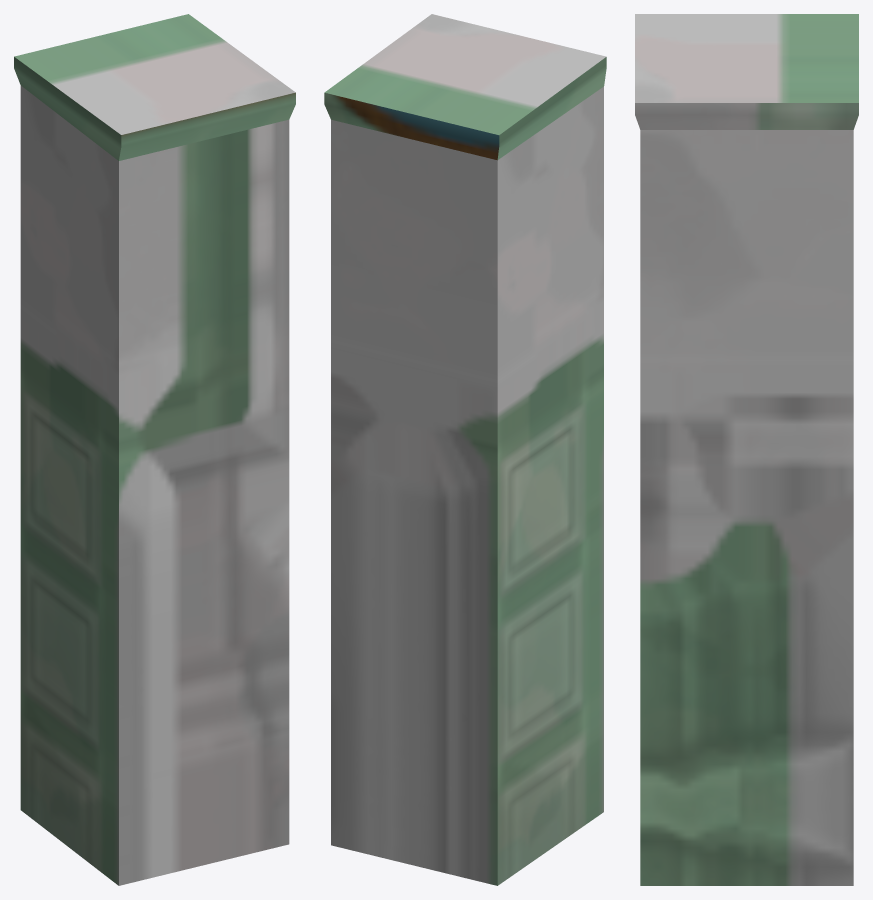
The model's file is qVin_Buld1_F3BigColumn_Right.fbx.
3 renders of one model, left to right at view 1: azimuth 30°, elevation 25°; view 2: azimuth 150°, elevation 25°; view 3: azimuth 270°, elevation 25°, orthographic. The views are drawn at different scales.
Parts seen in each view (by area): view 1: qVin_Buld1_F3BigColumn_Right; view 2: qVin_Buld1_F3BigColumn_Right; view 3: qVin_Buld1_F3BigColumn_Right.
Boxes of the visible parts, x1=… form: qVin_Buld1_F3BigColumn_Right: x1=14, y1=14, x2=295, y2=885; qVin_Buld1_F3BigColumn_Right: x1=324, y1=14, x2=606, y2=885; qVin_Buld1_F3BigColumn_Right: x1=635, y1=14, x2=858, y2=885.
Size of the model in its own units: 112 by 460 by 119.
1 material, 1 textured.
